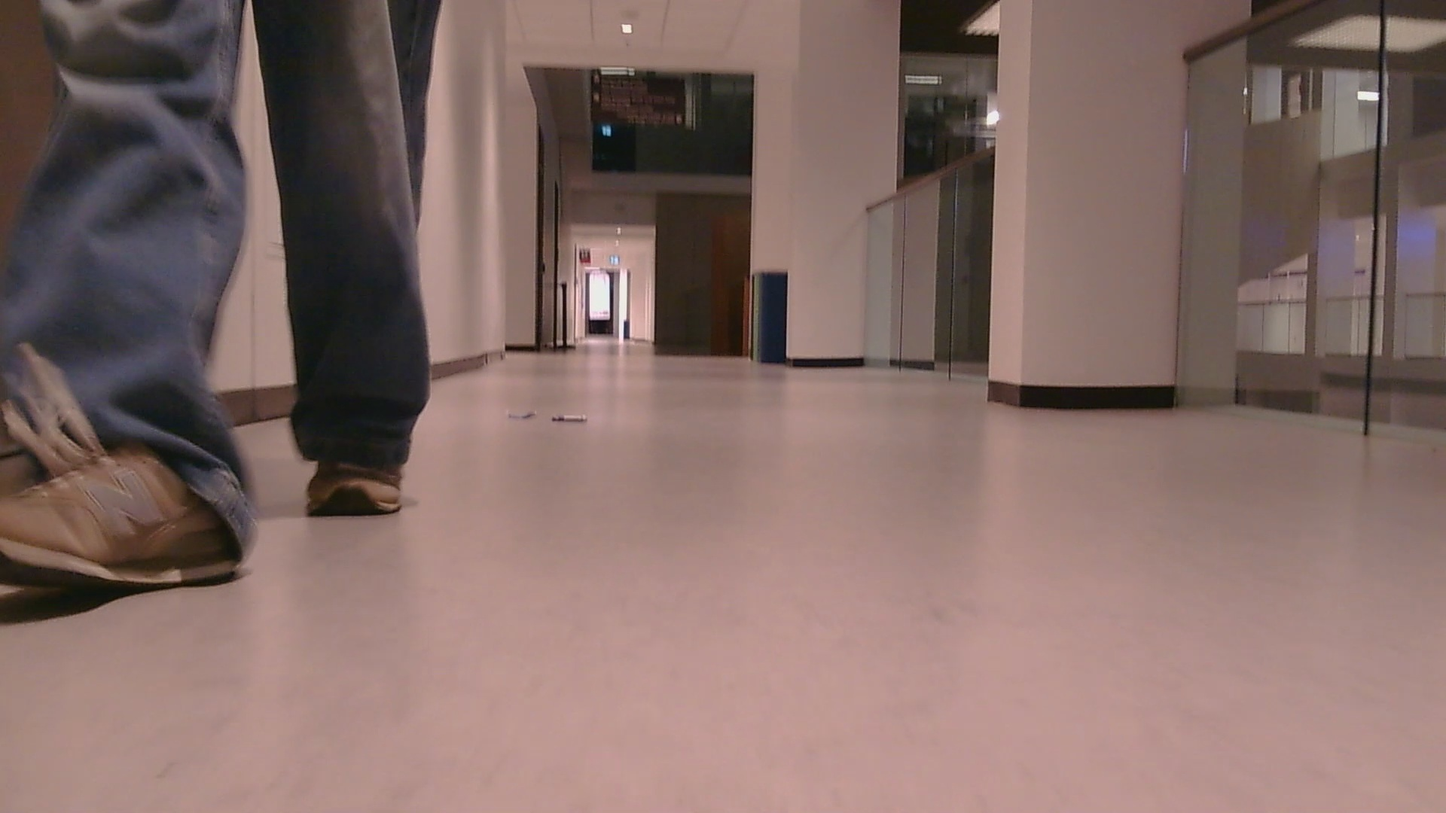carton: (545, 411, 592, 431), (509, 403, 541, 425)
